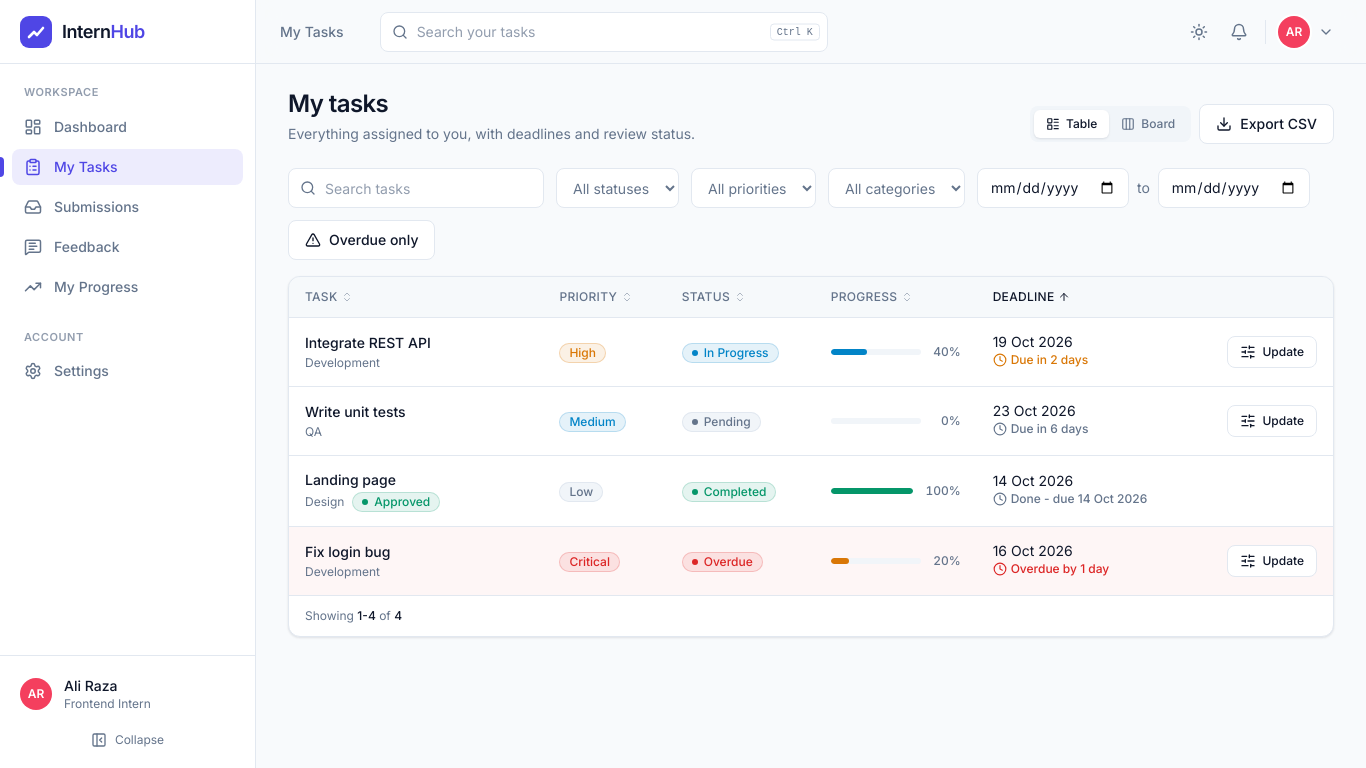
Test: my tasks › opens the progress modal, saves a new value and refetches
Click the button with aria-label "update progress for integrate rest api" at (1272, 352), box top-left (1227, 336), bottom-right (1317, 368)
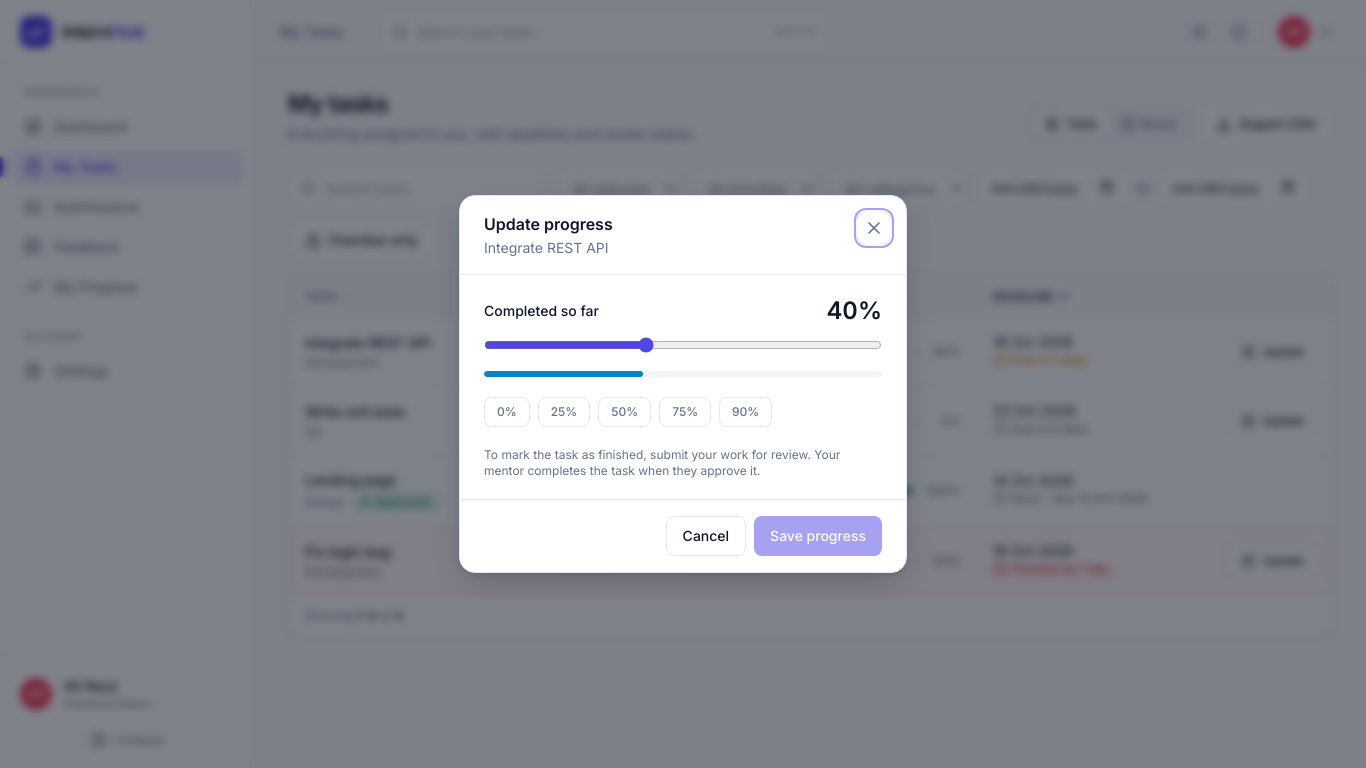
Click the button "75%" at (685, 412), box top-left (659, 397), bottom-right (711, 427)
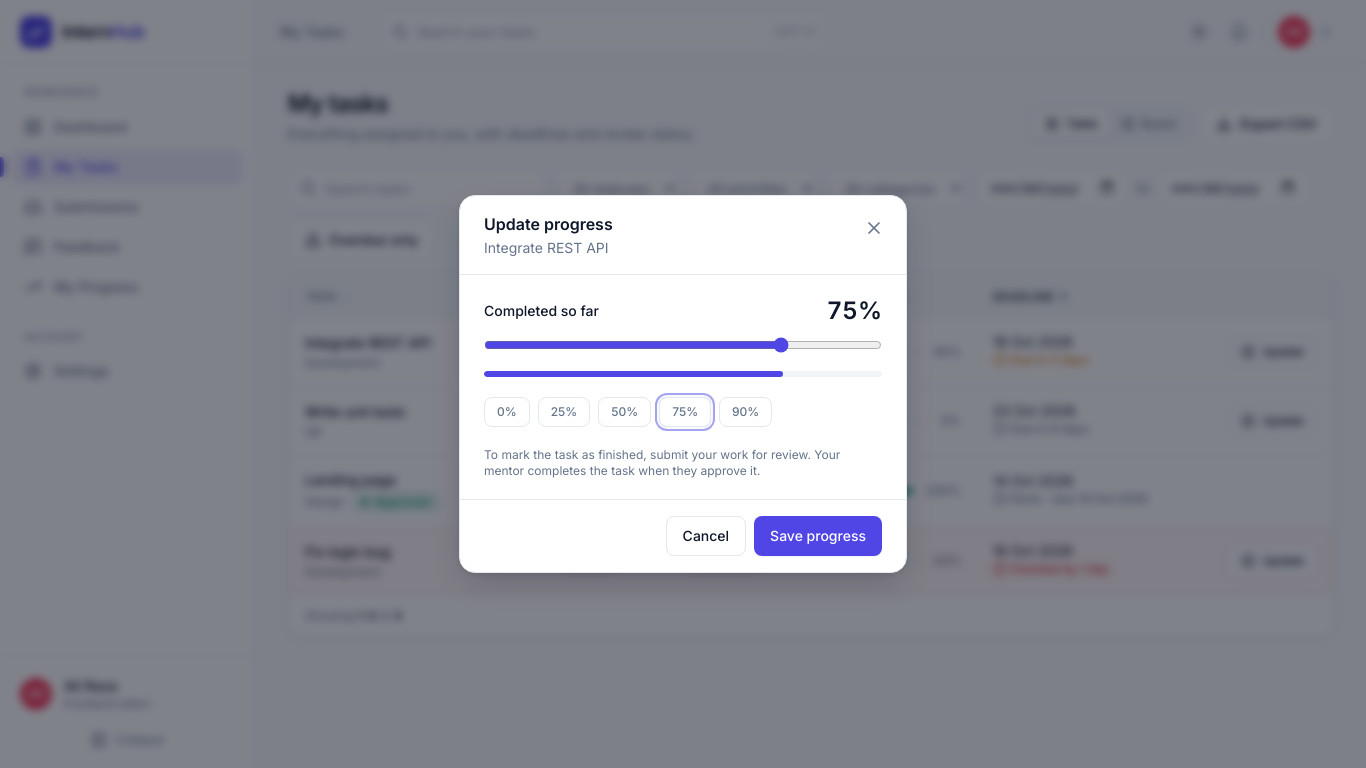
Click the button "Save progress" at (818, 536), box top-left (754, 516), bottom-right (882, 556)
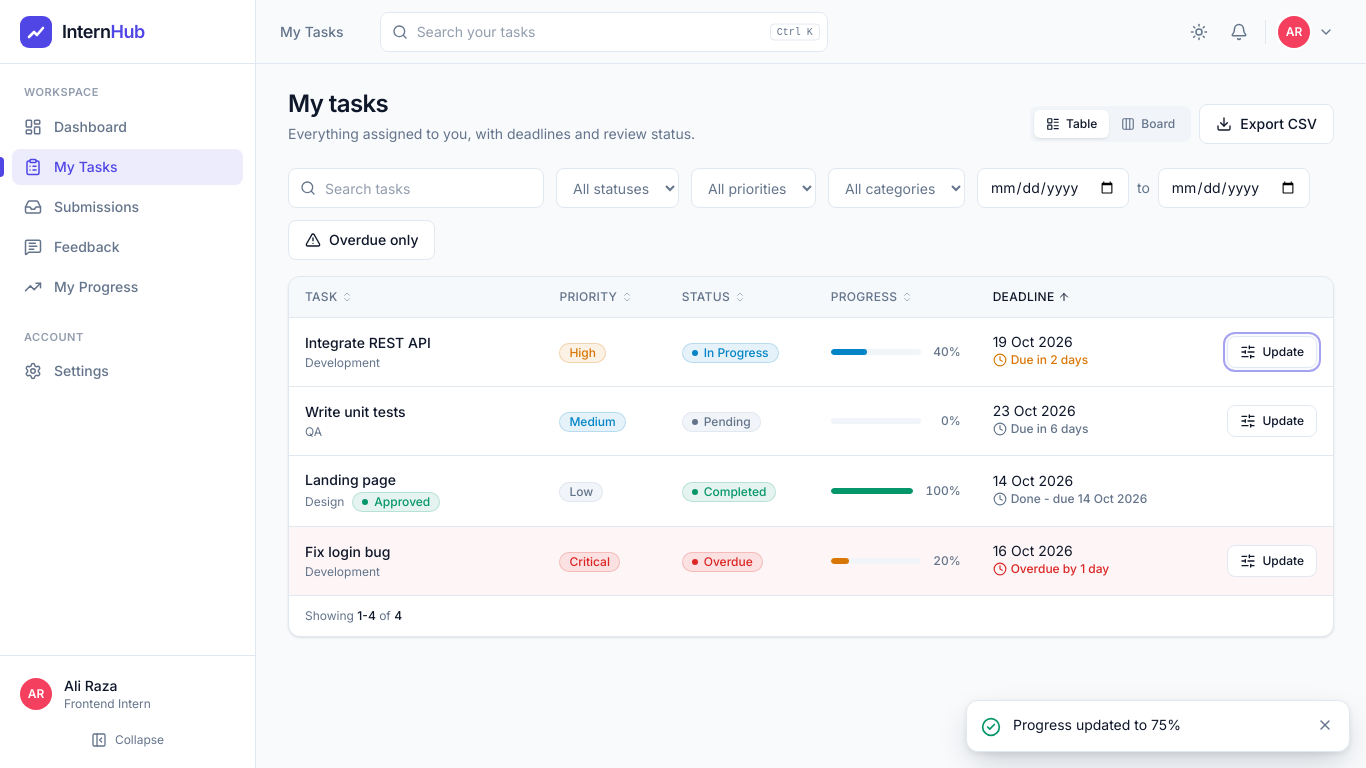
Now the dialog is gone
